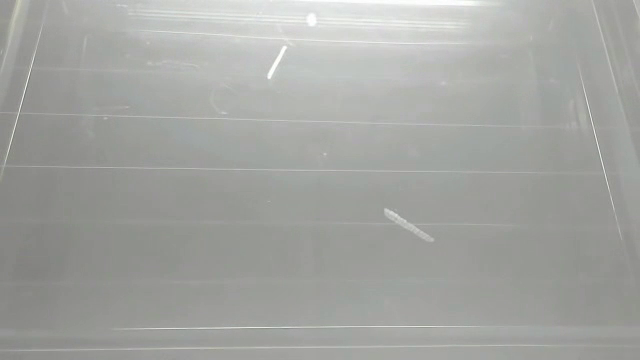alpha: (381, 204, 436, 245), (265, 44, 290, 81), (304, 10, 320, 29)
